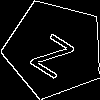Z: (29, 24, 82, 80)
